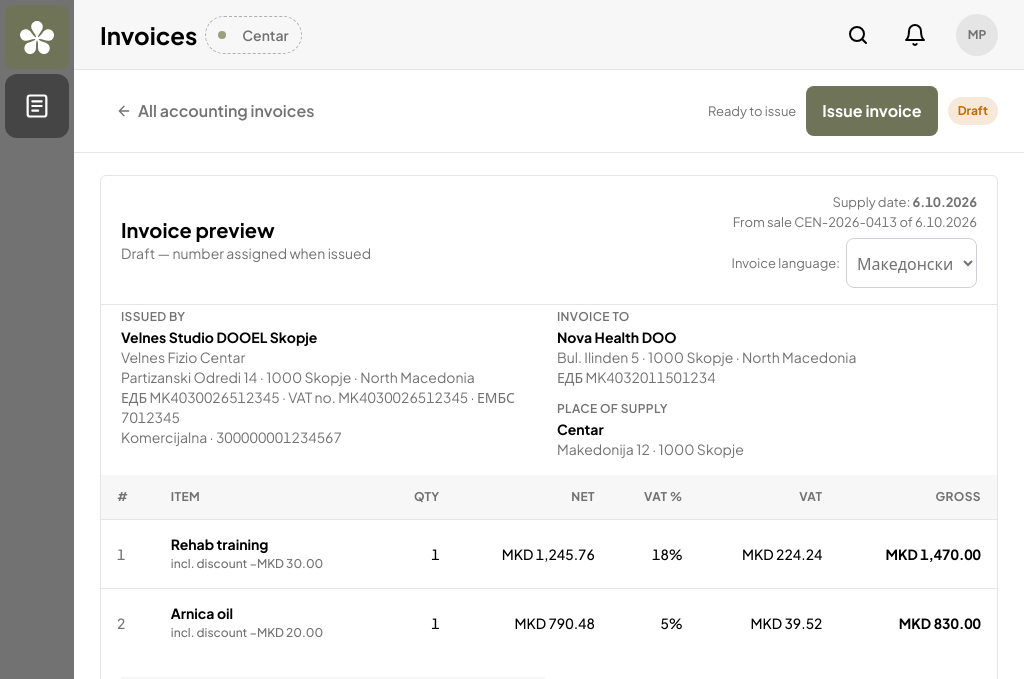
accounting invoices › payments (phase 5) › without billing.record_payment there is no Record payment button
The width and height of the screenshot is (1024, 679).
Click the button with test id "issue-btn" at (872, 111), box [806,86,938,136]
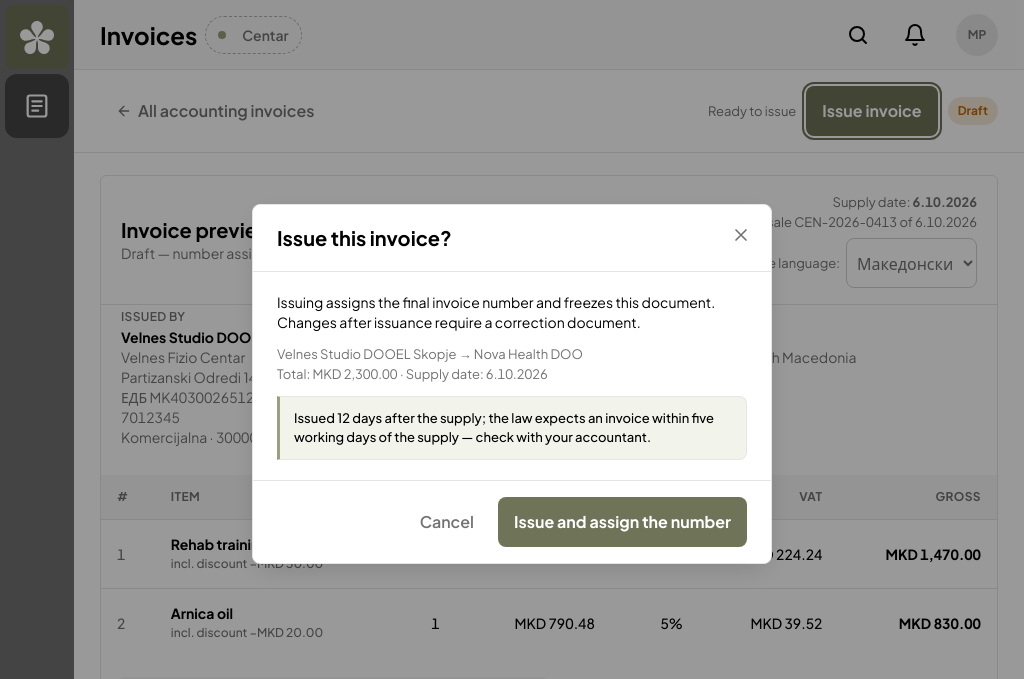
Click the button with test id "issue-confirm" at (622, 522), box [498,497,747,547]
(page scrolled)
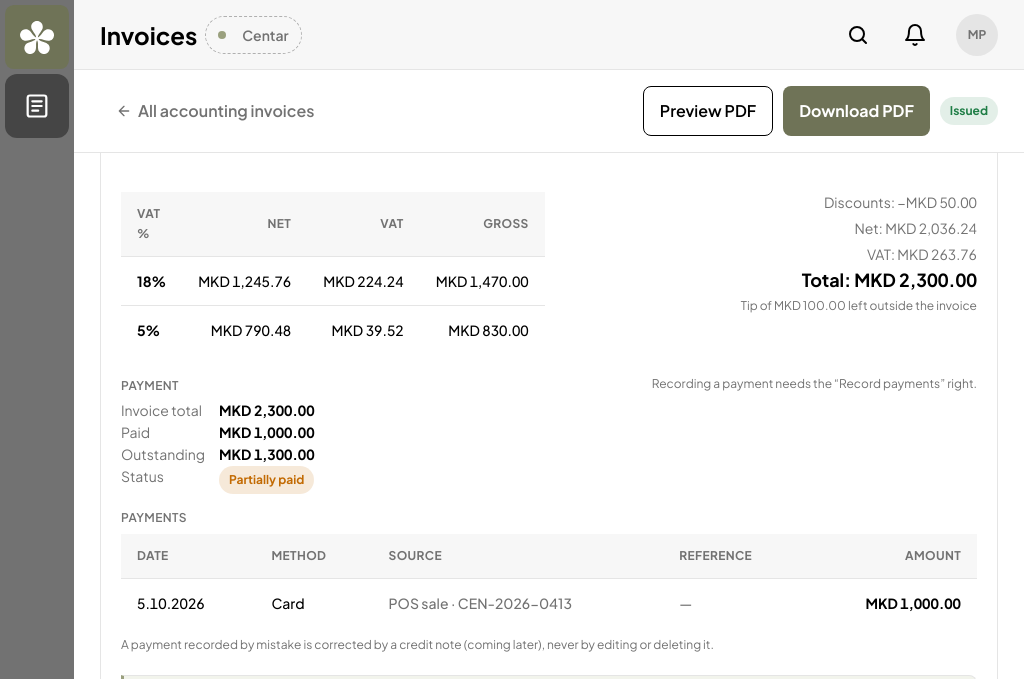
Result: the text with test id "doc-status" reads "Issued" at [950,103,988,118]
Result: the element with test id "payment-summary" is shown at [121,400,315,494]
Result: the text "Recording a payment needs the “Record payments” right." is shown at [652,374,977,394]
